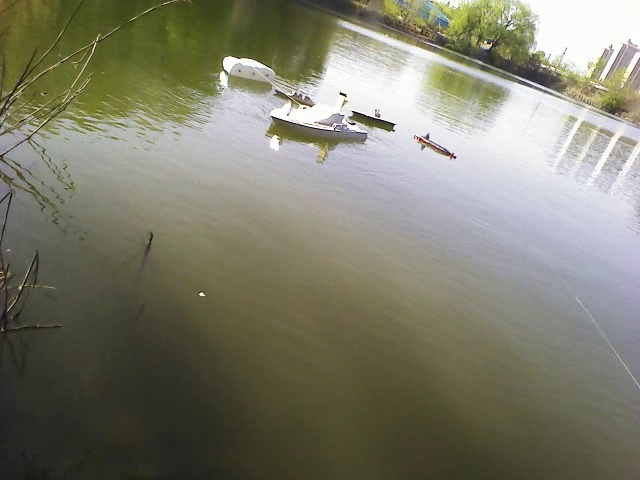aircraft_carrier: (350, 105, 402, 132)
boat: (268, 101, 371, 143)
iceberg: (214, 48, 279, 81)
submarine: (415, 131, 457, 161)
